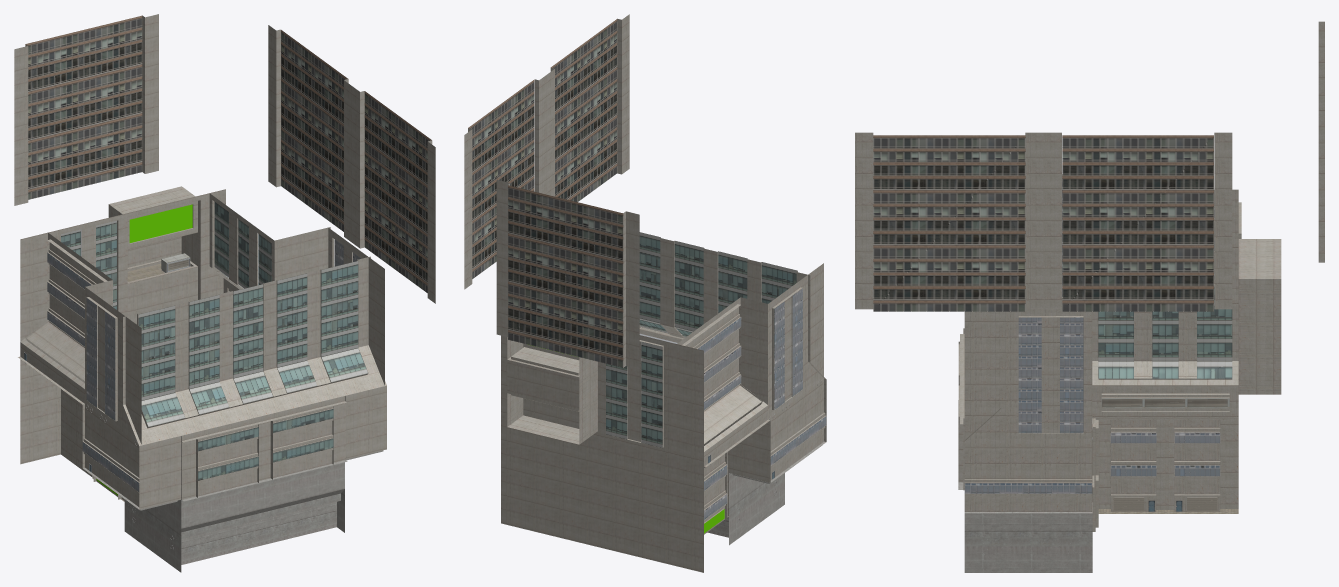
File: world2.glb
3 views of the same model, side by side, from view 1: azimuth 30°, elevation 25°; view 2: azimuth 150°, elevation 25°; view 3: azimuth 270°, elevation 25° (orthographic). The views are drawn at different scales.
Parts seen in each view (by area): view 1: EdgesScene_01; view 2: EdgesScene_01; view 3: EdgesScene_01.
Boxes of the visible parts, x1=… form: EdgesScene_01: x1=14, y1=14, x2=435, y2=572; EdgesScene_01: x1=464, y1=14, x2=826, y2=572; EdgesScene_01: x1=855, y1=21, x2=1324, y2=572.
Bounding box in the file's own units: 53.98 × 84 × 77.16.
Materials: 23 (18 with a texture image).
